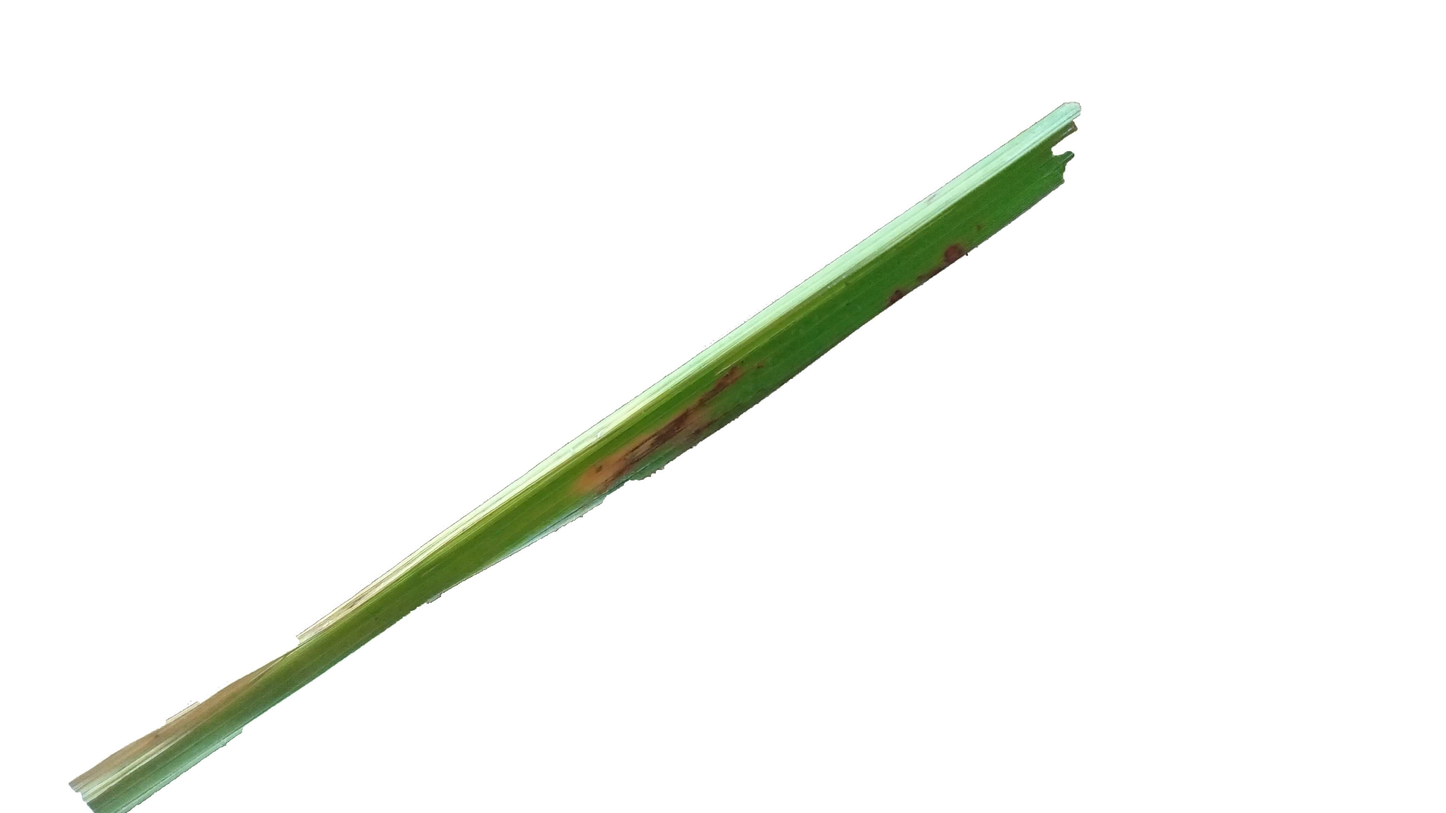Rice blast: (558, 347, 769, 510), (866, 226, 980, 311)
